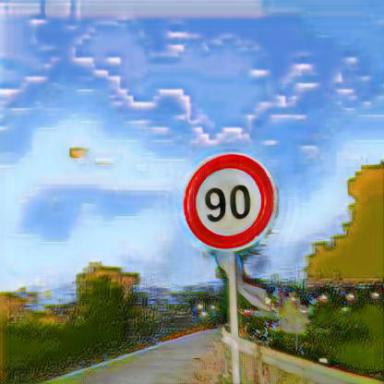Speed_limit_90: (186, 156, 269, 249)
